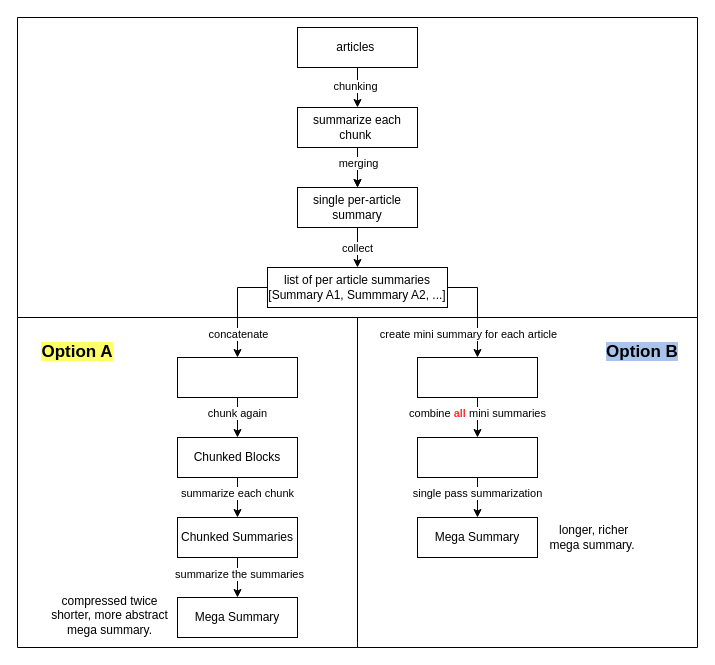
Image size: 715x665. Some labels were removed from this diagram. The box of each missing label's shape, as (x1, y1, x2, y2) in pixels:
1. First layer (within-article summarization): (16, 16, 698, 318)
[Mini A1, Mini A2, ...]: (416, 356, 538, 398)
combined Mini Summaries: (416, 436, 538, 478)
Combined Summaries: (176, 356, 298, 398)
